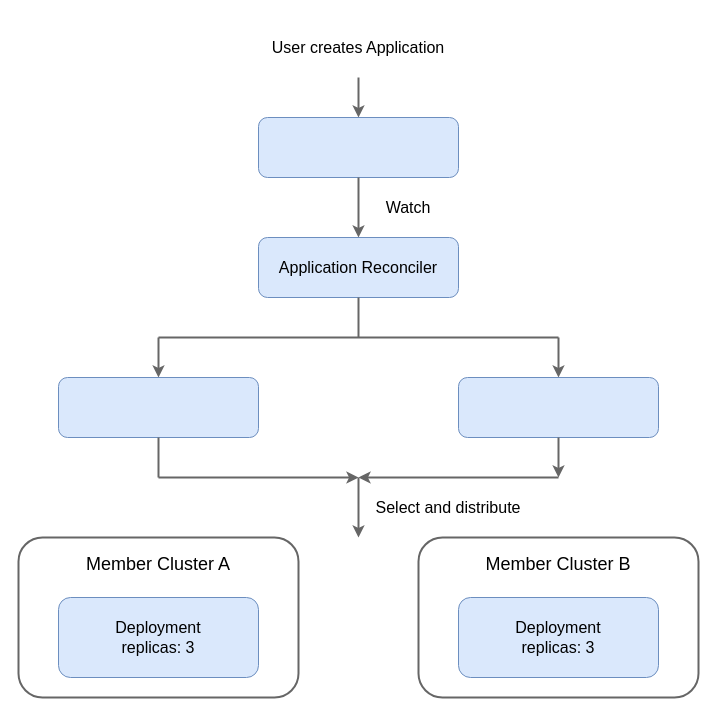
The diagram is 716 pixels wide and 715 high, and some of its shapes have lost their labels. Each missing label, with the centre of its shape:
API Server (etcd storage): point 358,147
Dispatcher: point 558,407
Scheduler: point 158,407
